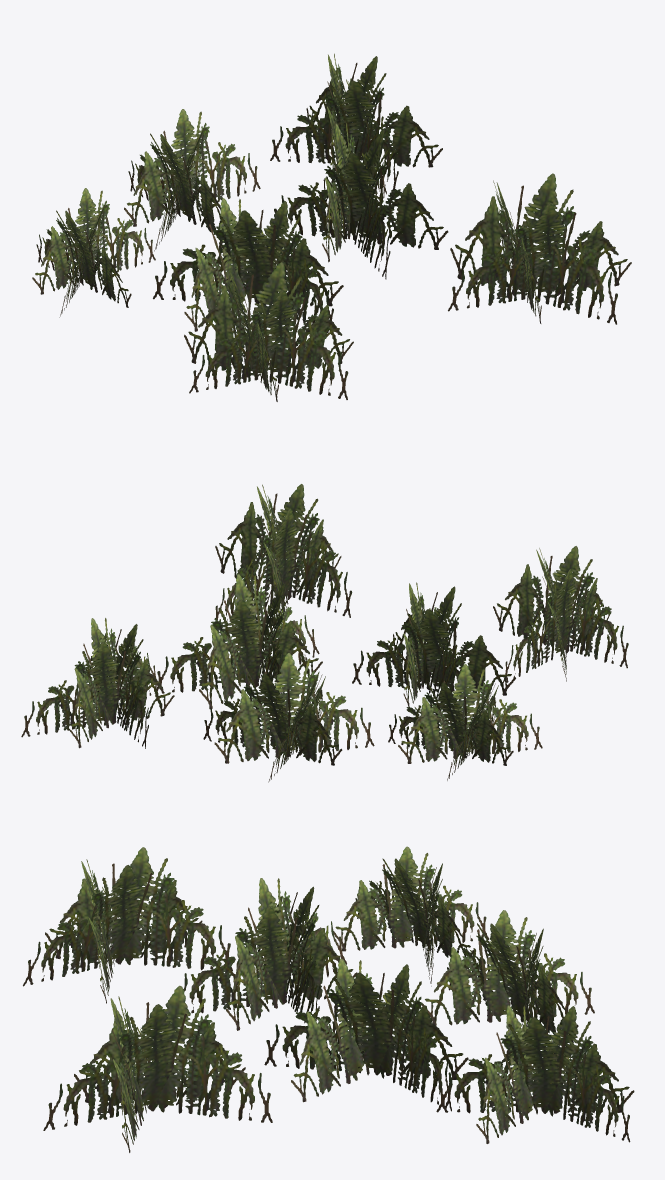
Rendered from grass3_small.obj.
3 renders of one model, top to bottom at view 1: azimuth 30°, elevation 25°; view 2: azimuth 150°, elevation 25°; view 3: azimuth 270°, elevation 25°, orthographic. The views are drawn at different scales.
Visible parts, largest first — view 1: Object002, Object035, Object005, Object034, Object046, Object017, Object037, Object048, Object042, Object019, Object018, Object049 (+9 smaller); view 2: Object047, Object005, Object037, Object019, Object033, Object045, Object041, Object048, Object004, Object032, Object036, Object042 (+9 smaller); view 3: Object002, Object004, Object036, Object032, Object018, Object049, Object035, Object044, Object043, Object045, Object034, Object033 (+9 smaller).
Part boxes in pixels (x1,y1,x2,y2): Object002: (450, 173, 617, 324); Object035: (184, 262, 348, 399); Object005: (448, 203, 631, 311); Object034: (273, 152, 448, 249); Object046: (270, 80, 442, 167); Object017: (153, 210, 343, 306); Object037: (189, 290, 353, 393); Object048: (124, 109, 260, 226); Object042: (32, 188, 155, 294); Object019: (184, 198, 291, 331); Object018: (213, 201, 333, 333); Object049: (128, 133, 221, 232); Object047: (214, 653, 374, 763); Object005: (215, 484, 352, 617); Object037: (493, 546, 628, 668); Object019: (352, 609, 515, 695); Object033: (154, 599, 322, 693); Object045: (21, 642, 174, 737); Object041: (398, 664, 542, 763); Object048: (203, 673, 342, 765); Object004: (215, 508, 341, 620); Object032: (199, 574, 319, 709); Object036: (502, 569, 611, 682); Object042: (388, 682, 513, 765); Object002: (43, 1004, 245, 1130); Object004: (74, 985, 272, 1122); Object036: (45, 847, 232, 970); Object032: (264, 972, 468, 1079); Object018: (183, 906, 357, 1013); Object049: (421, 910, 594, 1025); Object035: (23, 865, 202, 986); Object044: (436, 1017, 634, 1113); Object043: (333, 846, 489, 951); Object045: (498, 1006, 630, 1142); Object034: (291, 958, 417, 1102); Object033: (329, 964, 452, 1111).
Bounding box in the file's own units: 1727 × 410 × 1876.
